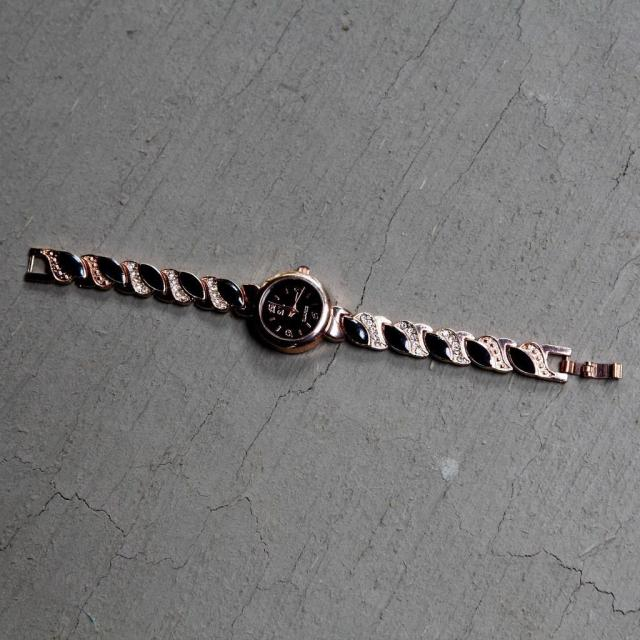Wrist watch: (22, 243, 622, 387)
